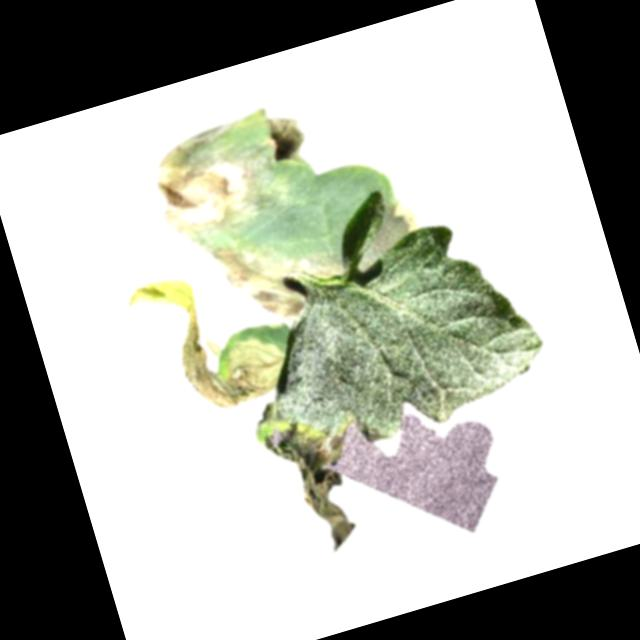Late_blight: (116, 250, 294, 432), (140, 96, 326, 246), (245, 393, 374, 564), (205, 214, 352, 337), (343, 194, 429, 268)
